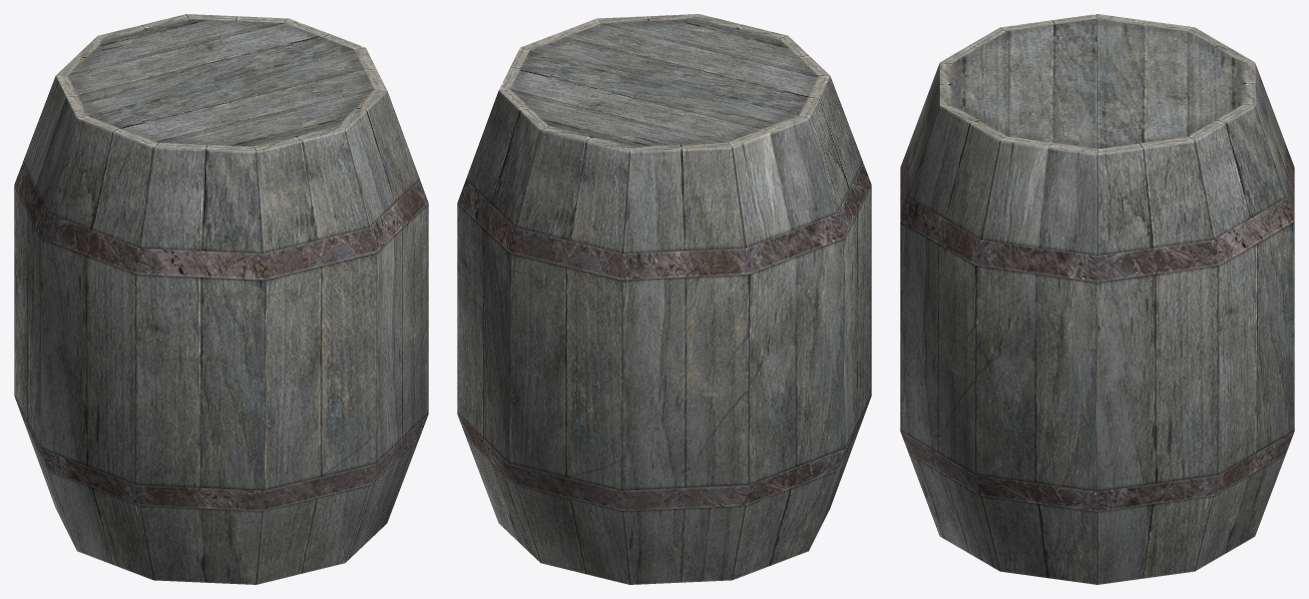
The model's file is barrel_wood.FBX.
3 views of the same model, side by side, from view 1: azimuth 30°, elevation 25°; view 2: azimuth 150°, elevation 25°; view 3: azimuth 270°, elevation 25° (orthographic).
Visible parts, largest first — view 1: barrel_wood; view 2: barrel_wood; view 3: barrel_wood.
Boxes of the visible parts, <box> form: barrel_wood: <box>14,14,428,584</box>; barrel_wood: <box>457,14,871,584</box>; barrel_wood: <box>900,14,1294,584</box>.
Size of what is drawn, in the model's own units: 78.45 by 89.99 by 74.61.
